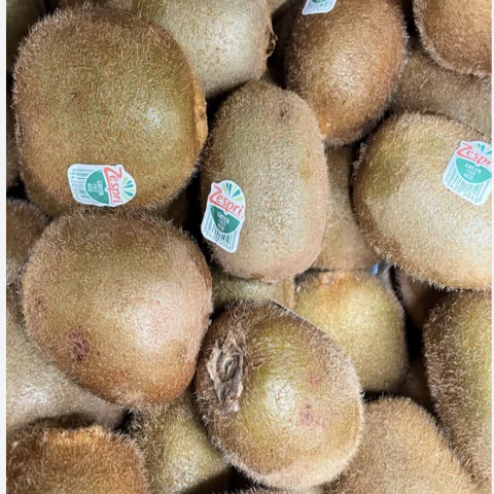kiwi: (9, 5, 223, 232), (18, 188, 232, 410), (160, 307, 393, 490), (194, 75, 350, 304), (352, 88, 494, 297)
